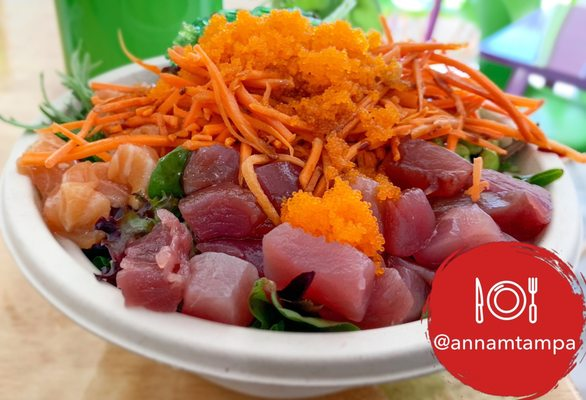sushi: (7, 5, 585, 391)
